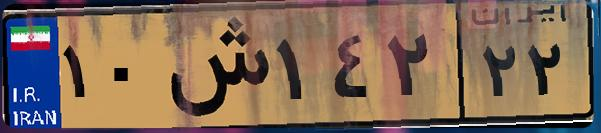0: (110, 28, 158, 98)
1: (270, 28, 330, 110), (57, 26, 110, 100)
2: (385, 28, 445, 110), (475, 38, 525, 113), (525, 38, 570, 115)
4: (330, 28, 385, 110)
ش: (158, 12, 270, 120)
